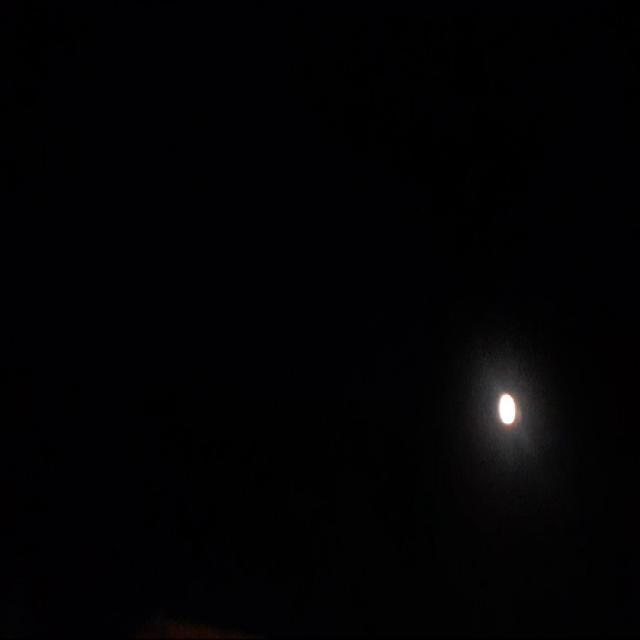moon: (495, 391, 518, 424)
